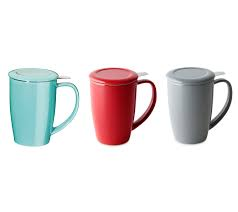mug: (159, 61, 238, 156), (7, 66, 83, 160), (87, 61, 157, 158)
